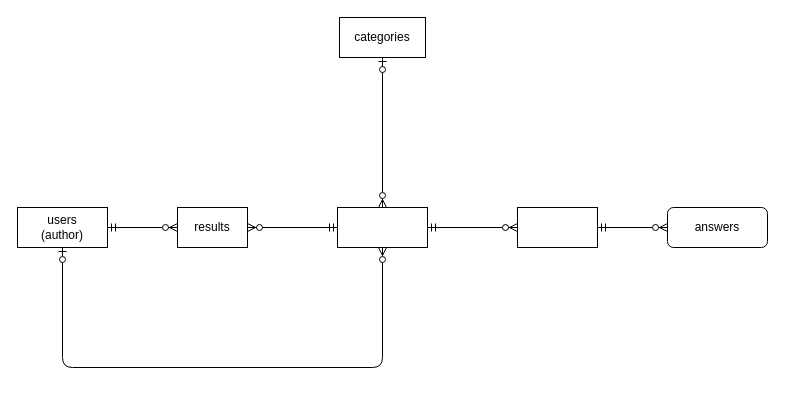
Image size: 785x394. Some labels were removed from this diagram. The centre of each missing label's shape, as x and y in pixels:
"questions" goes at (x=557, y=227).
"tests" goes at (x=382, y=227).
